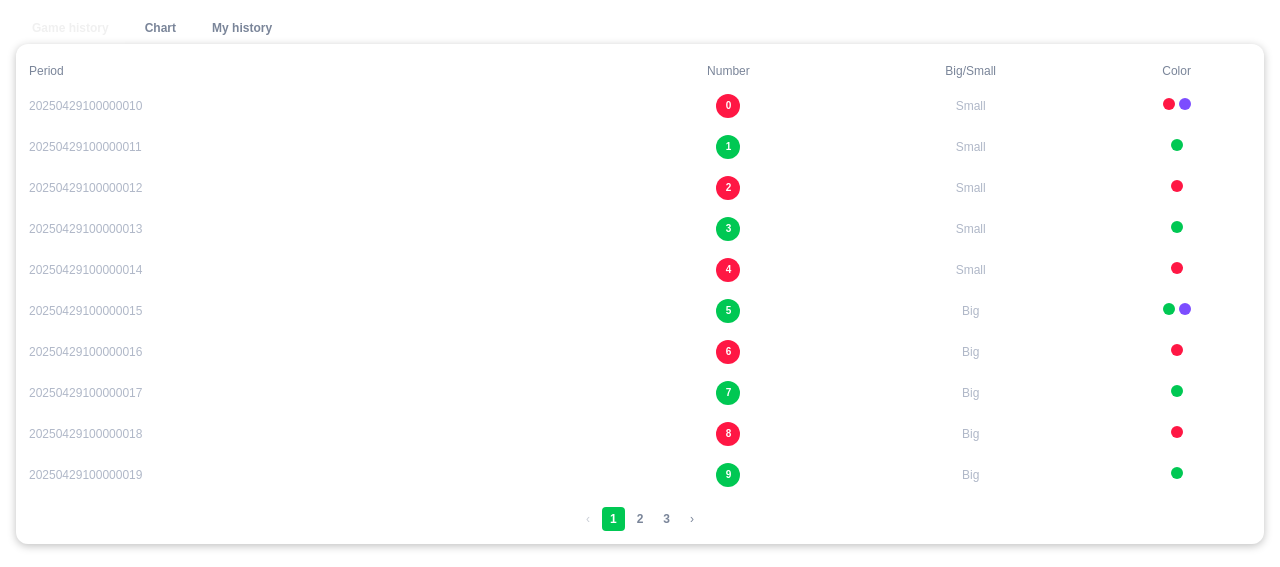
Test: HistoryTable › renders my history table with correct columns
Step 1. Click the tab "My history" → (242, 28), box [196,12,288,44]
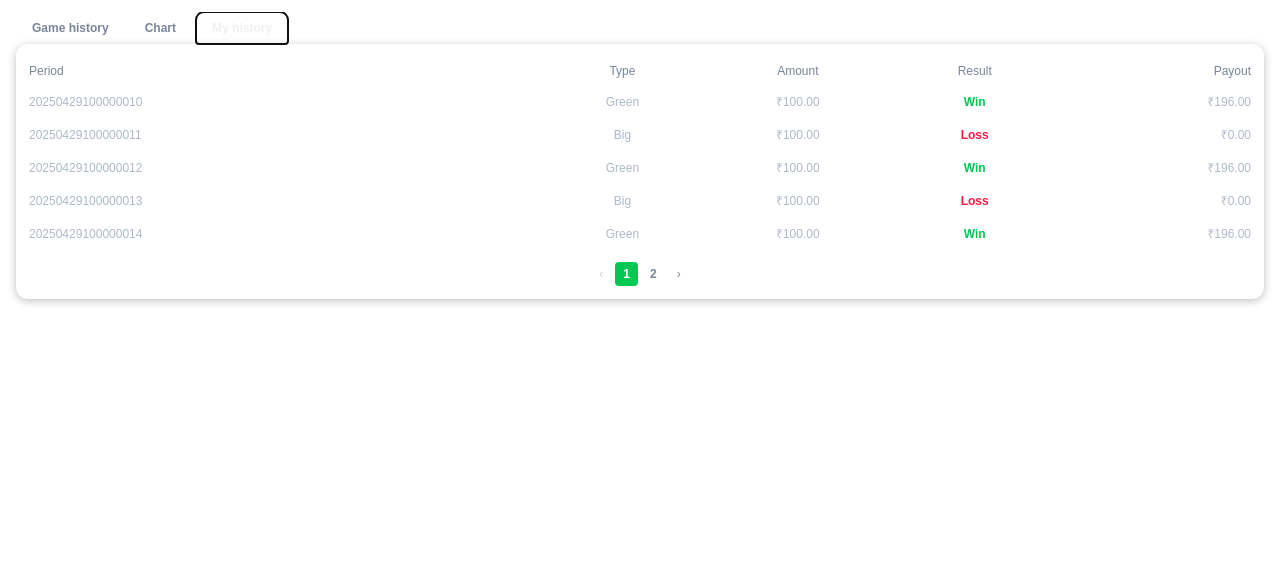
Check: the column heading "Type" is shown, box [546,57,698,86]
Check: the column heading "Amount" is shown, box [698,57,897,86]
Check: the column heading "Result" is shown, box [897,57,1052,86]
